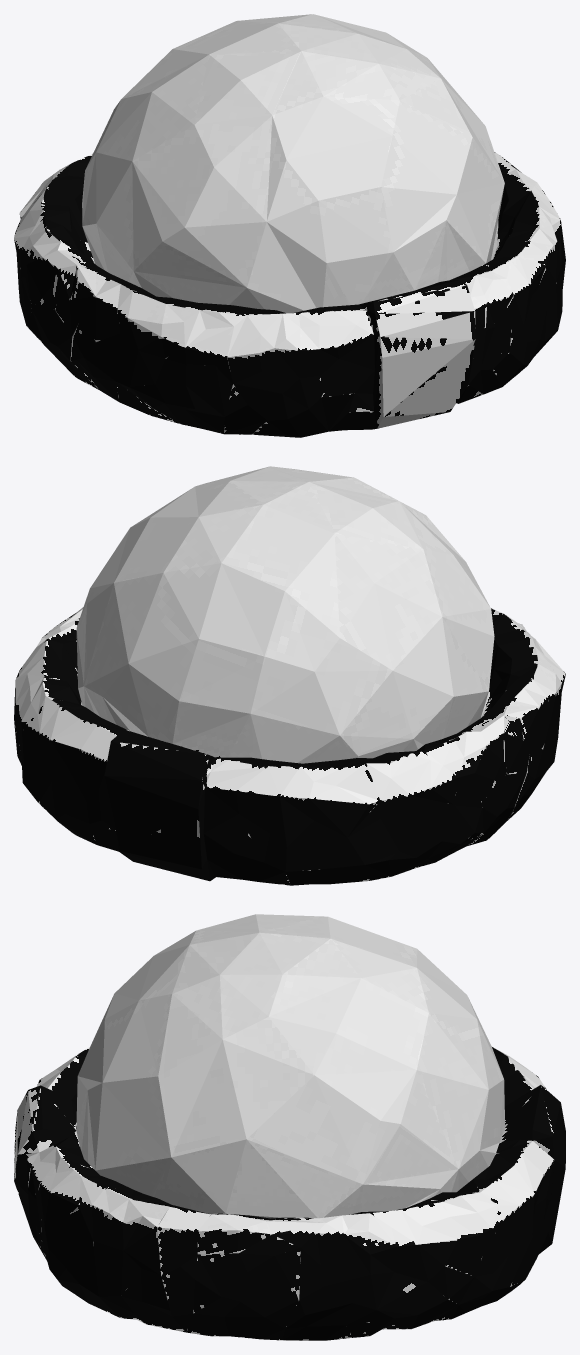
The picture shows the model from 3 angles, top to bottom: view 1: azimuth 30°, elevation 25°; view 2: azimuth 150°, elevation 25°; view 3: azimuth 270°, elevation 25°; orthographic projection. The views are drawn at different scales.
Visible parts, largest first — view 1: OBJ02c; view 2: OBJ02c; view 3: OBJ02c.
Boxes of the visible parts, x1,y1,x2,y2 form: OBJ02c: (14, 14, 565, 437); OBJ02c: (14, 466, 565, 885); OBJ02c: (14, 914, 565, 1340).
Size of the model in its own units: 0.2236 by 0.1408 by 0.2273.
Materials: 1 (1 with a texture image).
